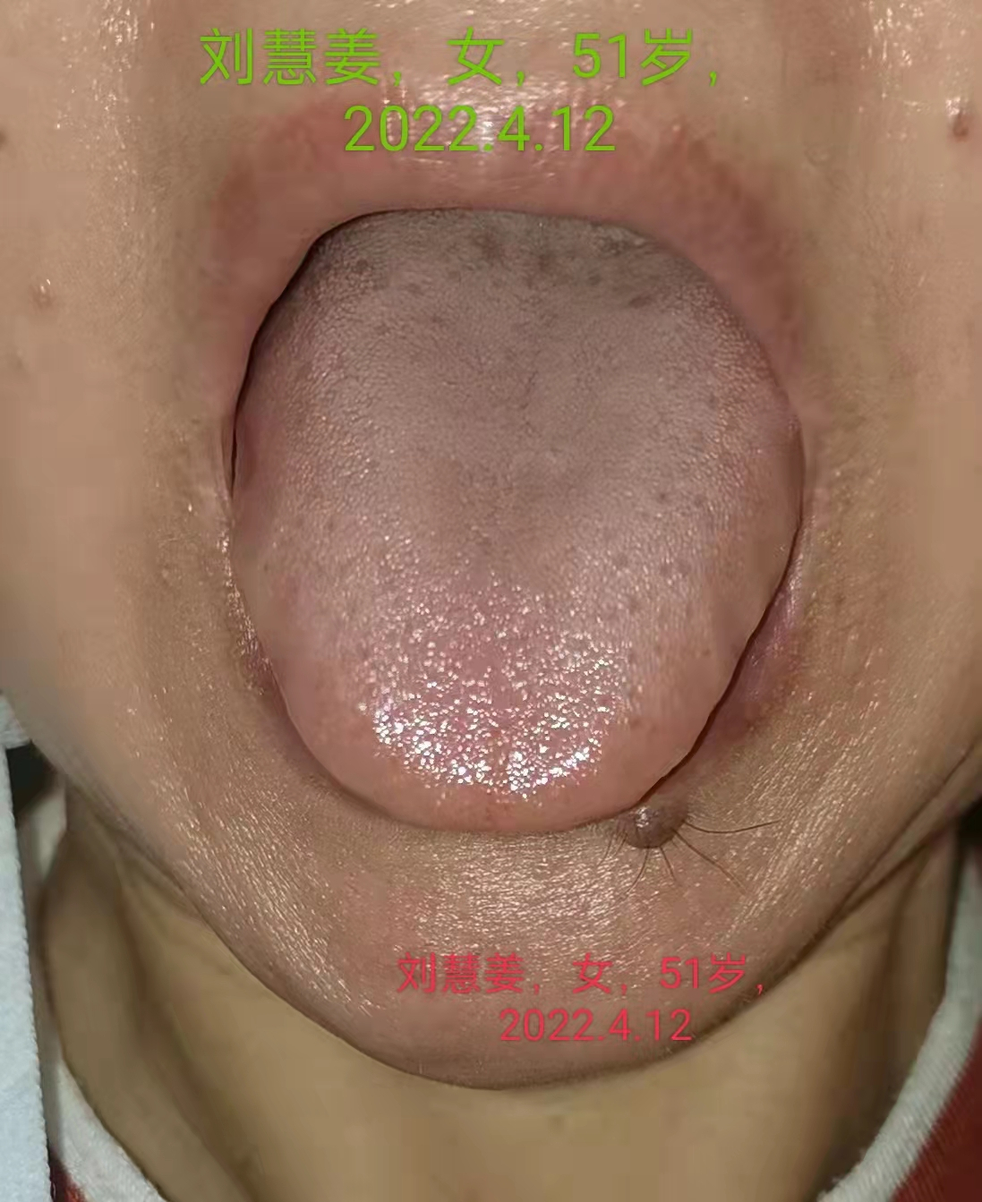baitaishe: (235, 209, 805, 836)
hongdianshe: (589, 474, 722, 733)
